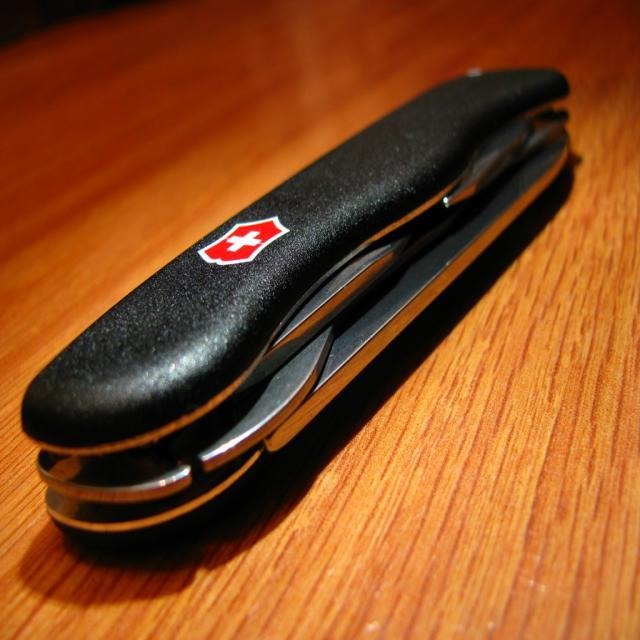Knife: (21, 69, 569, 539)
